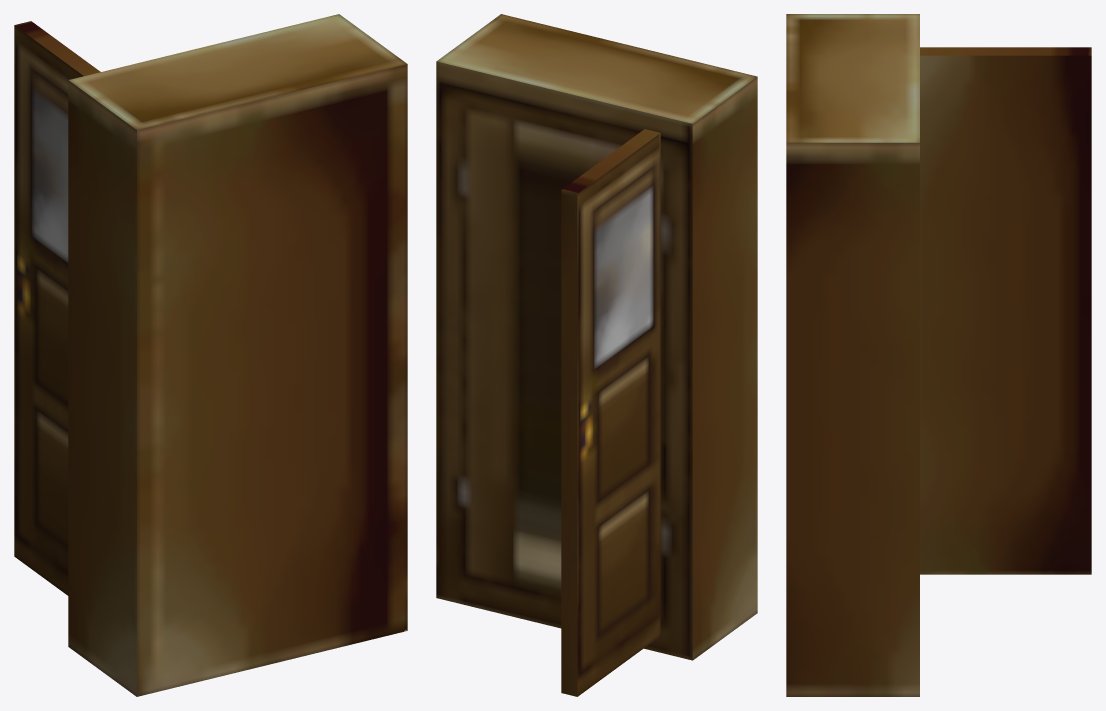
Rendered from closet_open.obj.
The picture shows the model from 3 angles, left to right: view 1: azimuth 30°, elevation 25°; view 2: azimuth 150°, elevation 25°; view 3: azimuth 270°, elevation 25°; orthographic projection. The views are drawn at different scales.
Visible parts, largest first — view 1: nodebox2.001; view 2: nodebox2.001; view 3: nodebox2.001.
Part boxes in pixels (left/top/right/bottom): nodebox2.001: left=14, top=14, right=407, bottom=696; nodebox2.001: left=436, top=14, right=757, bottom=696; nodebox2.001: left=786, top=14, right=1091, bottom=696.
Size of the model in its own units: 1 by 2 by 1.
